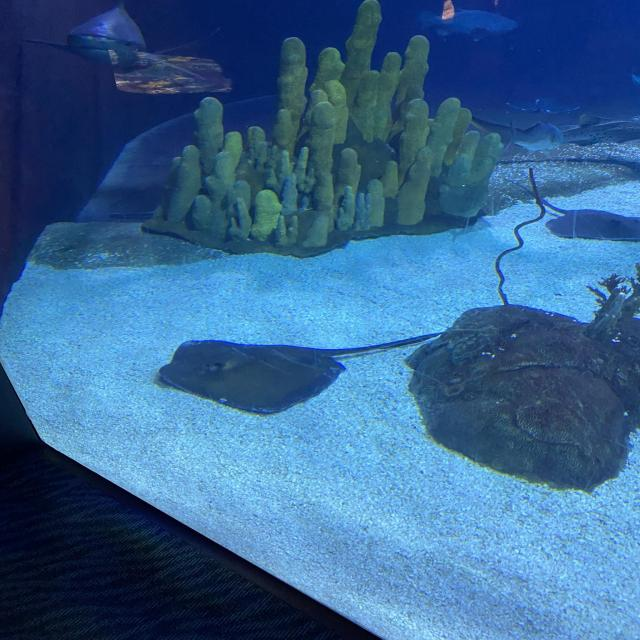fish: (416, 8, 519, 39)
shark: (28, 2, 186, 68)
stingray: (154, 339, 346, 414), (543, 208, 639, 241)
